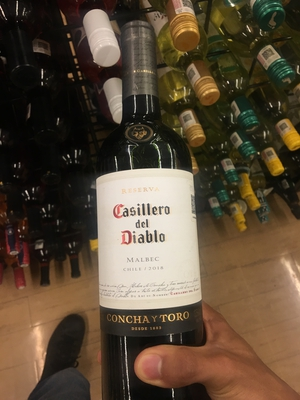casillero del diablo malbec: (88, 35, 216, 400)
